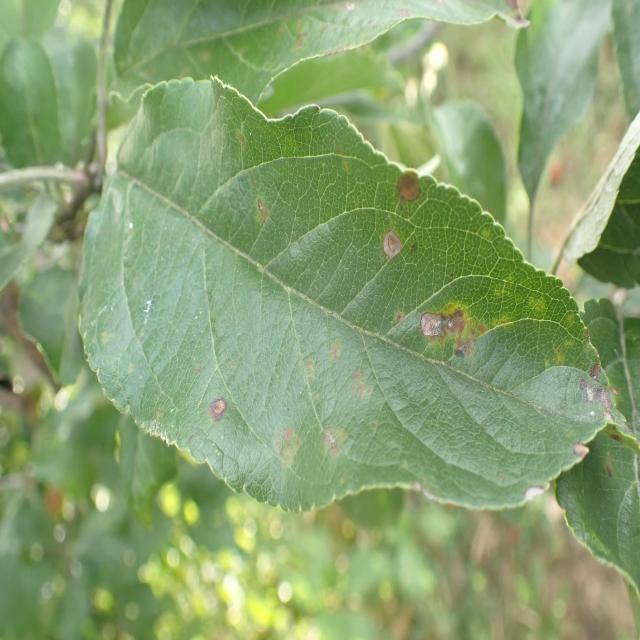frog-eye-leaf-spot: (79, 74, 625, 515)
